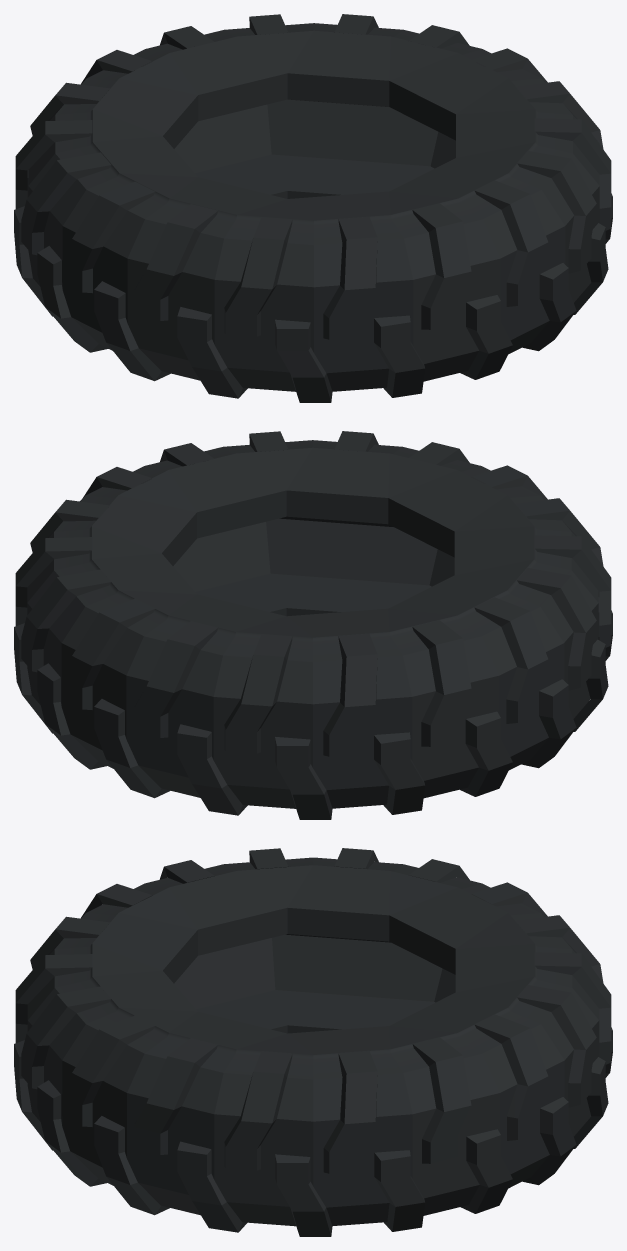
File: tire.gltf
3 renders of one model, top to bottom at view 1: azimuth 30°, elevation 25°; view 2: azimuth 150°, elevation 25°; view 3: azimuth 270°, elevation 25°, orthographic.
Visible parts, largest first — view 1: SM_Prop_Tractor_Tire_01; view 2: SM_Prop_Tractor_Tire_01; view 3: SM_Prop_Tractor_Tire_01.
Part boxes in pixels (x1,y1,x2,y2): SM_Prop_Tractor_Tire_01: (14,14,612,402); SM_Prop_Tractor_Tire_01: (14,431,612,819); SM_Prop_Tractor_Tire_01: (14,848,612,1236).
Size of the model in its own units: 1.72 by 0.525 by 1.72.
1 material, 1 textured.
